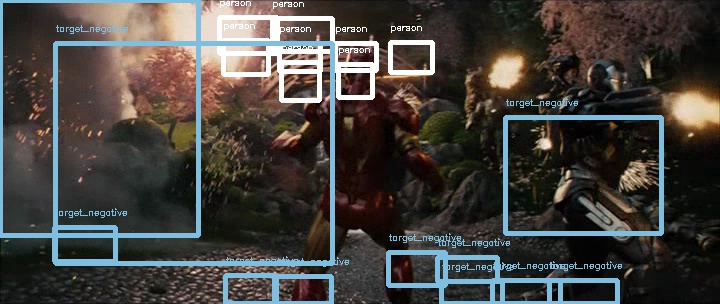person: (339, 42, 377, 85), (338, 42, 376, 85), (340, 42, 378, 85), (339, 41, 377, 84), (339, 43, 377, 86)
target_negative: (202, 18, 454, 179), (511, 55, 607, 261), (110, 224, 540, 251), (530, 260, 623, 299), (682, 189, 712, 287), (233, 222, 376, 236)
